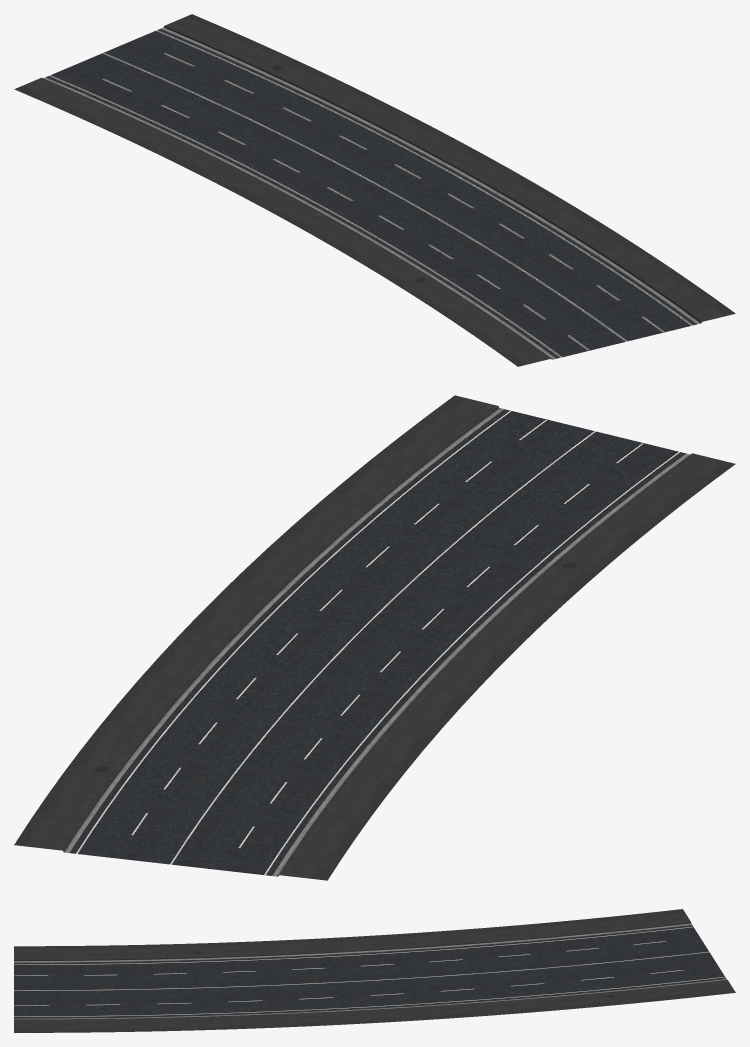
Rendered from city_road_4ways_15left_cont_marking.fbx.
3 renders of one model, top to bottom at view 1: azimuth 30°, elevation 25°; view 2: azimuth 150°, elevation 25°; view 3: azimuth 270°, elevation 25°, orthographic. The views are drawn at different scales.
Parts seen in each view (by area): view 1: obj0; view 2: obj0; view 3: obj0.
Boxes of the visible parts, x1,y1,x2,y2 form: obj0: (14, 14, 735, 366); obj0: (14, 395, 735, 880); obj0: (14, 909, 735, 1032).
Size of the model in its own units: 63.53 by 0.254 by 156.
